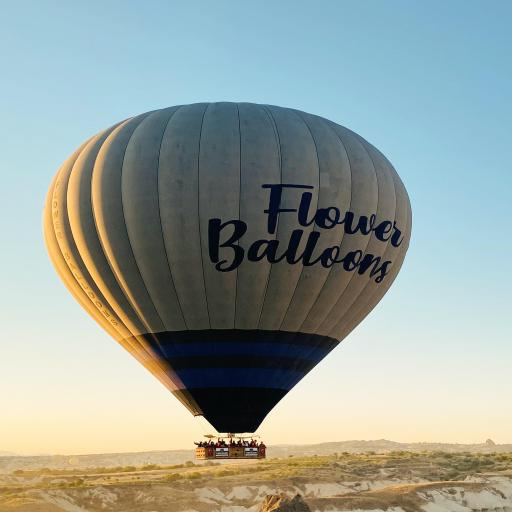hot air ballon: (46, 92, 412, 470)
